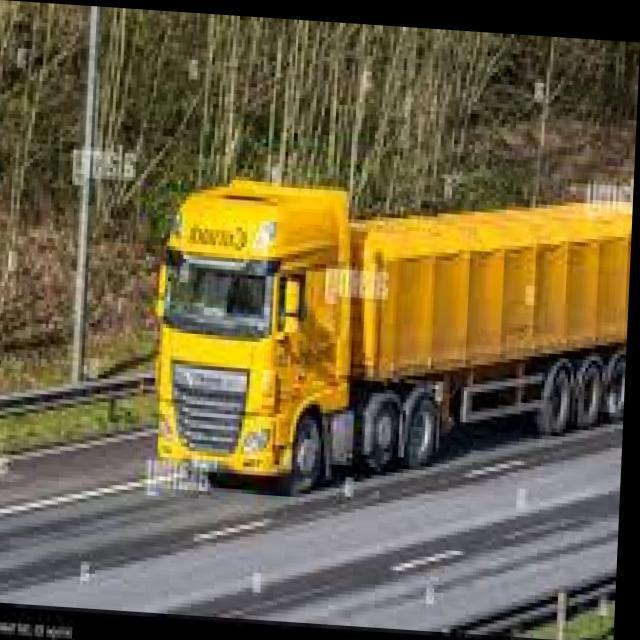covered: (152, 152, 634, 506)
